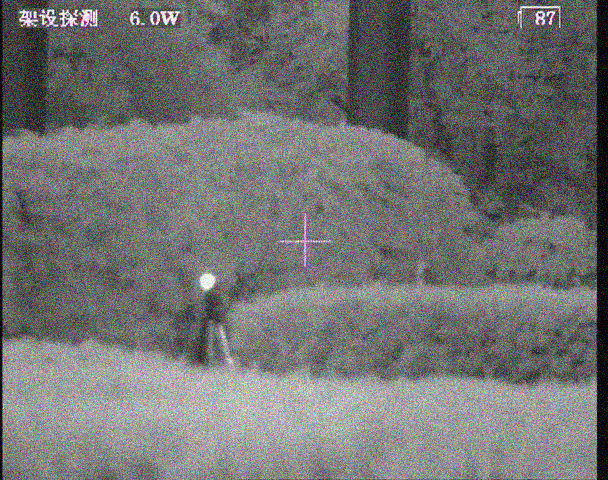my: (198, 273, 216, 290)
